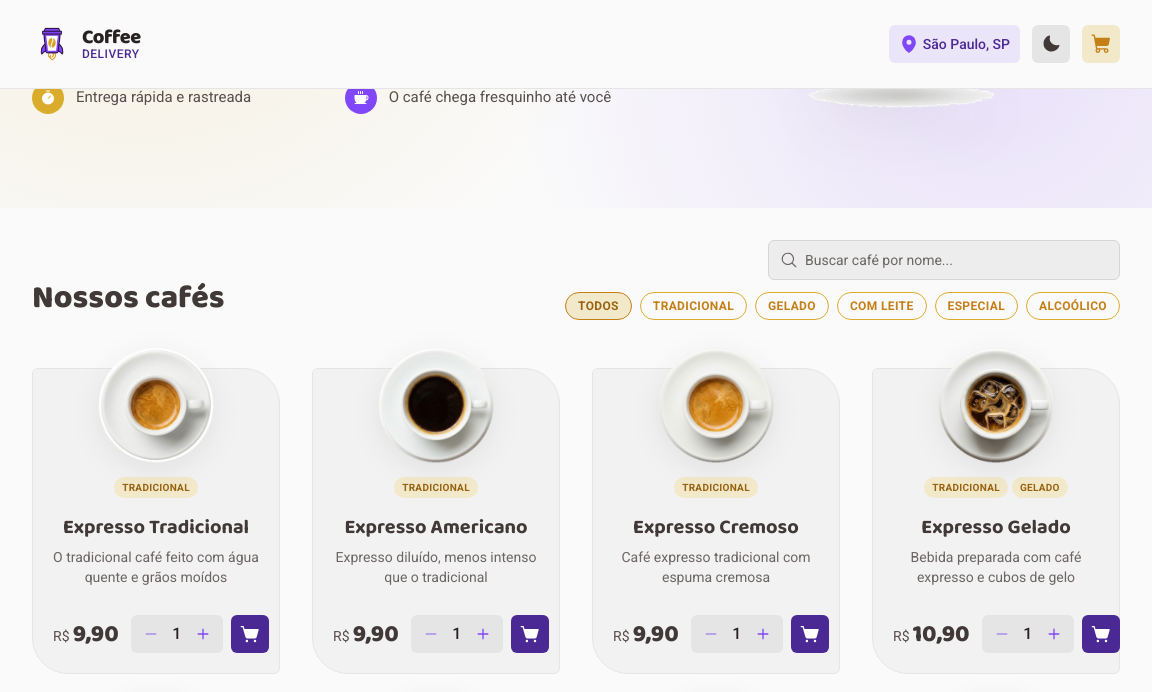
Test: Fluxos completos da SPA Coffee Delivery › exibe os 14 cafés, filtra por categoria/busca, soma unidades no Header e persiste o carrinho
The width and height of the screenshot is (1152, 692).
Later steps or results of the test are not shown.
(page scrolled)
Check: the heading "Expresso Tradicional" is shown, box top-left (63, 514), bottom-right (249, 540)
# Filtro por tag e busca
Step 1. Click the button "Alcoólico" → click(1073, 306), box top-left (1026, 292), bottom-right (1120, 320)
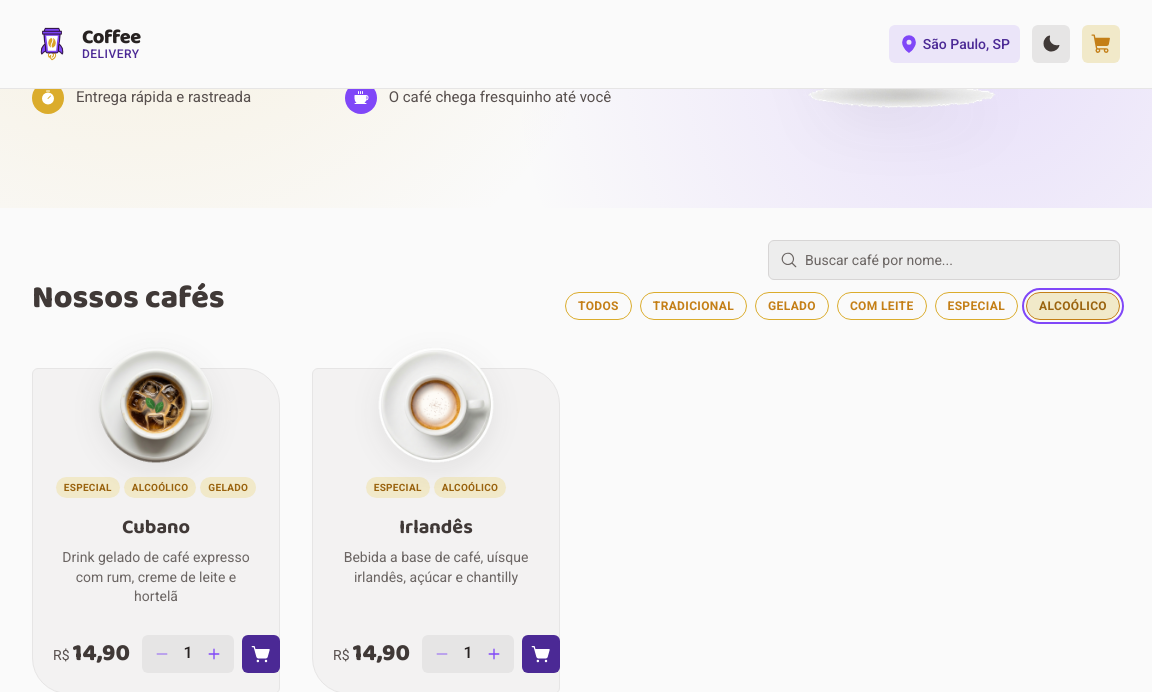
Check: the heading "Cubano" is shown, box top-left (122, 514), bottom-right (190, 540)
Check: the heading "Expresso Tradicional" is gone
Step 2. Click the button "Todos" → click(598, 306), box top-left (565, 292), bottom-right (632, 320)
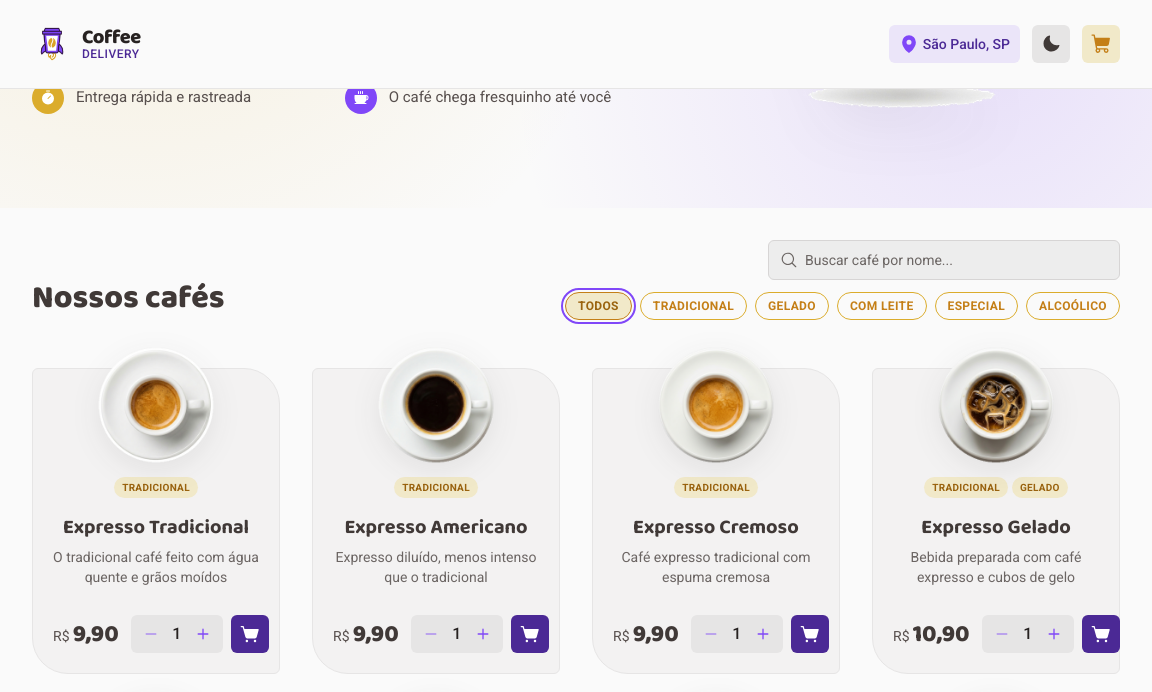
# RF-02 e RF-03: selecionar quantidade 2 e adicionar Expresso Tradicional + adicionar novamente 1 unidade
Step 3. Click the button named "Aumentar quantidade de Expresso Tradicional" → click(203, 634), box top-left (191, 622), bottom-right (215, 646)
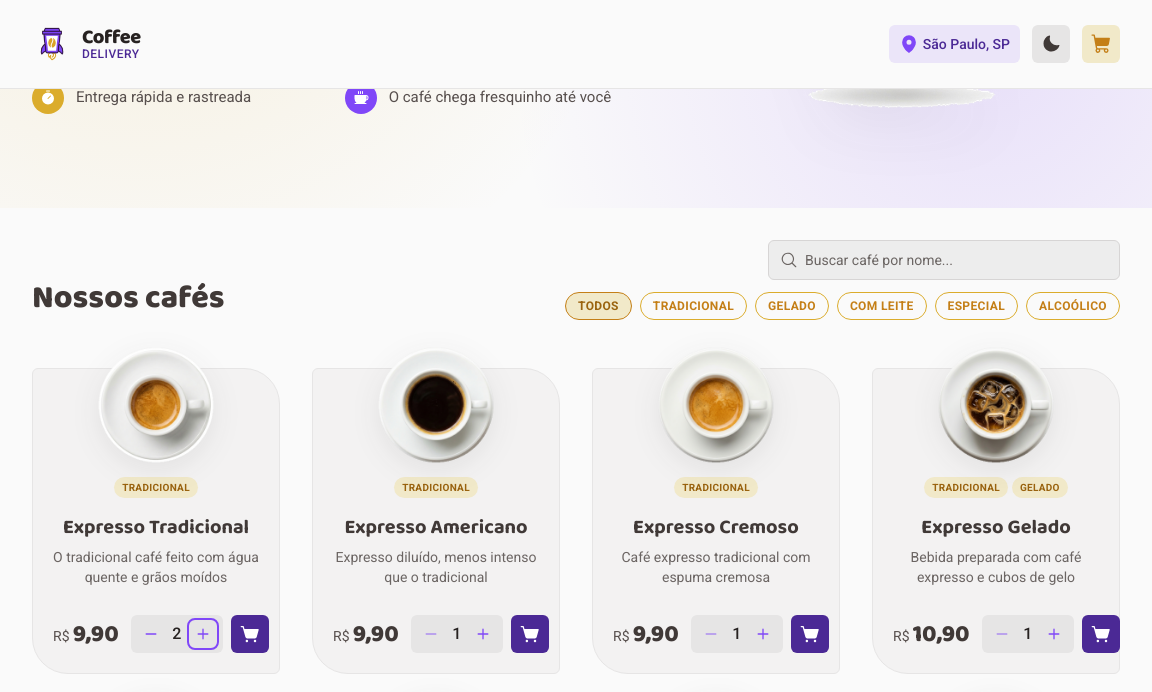
Step 4. Click the button named "Adicionar Expresso Tradicional ao carrinho" → click(250, 634), box top-left (231, 615), bottom-right (269, 653)
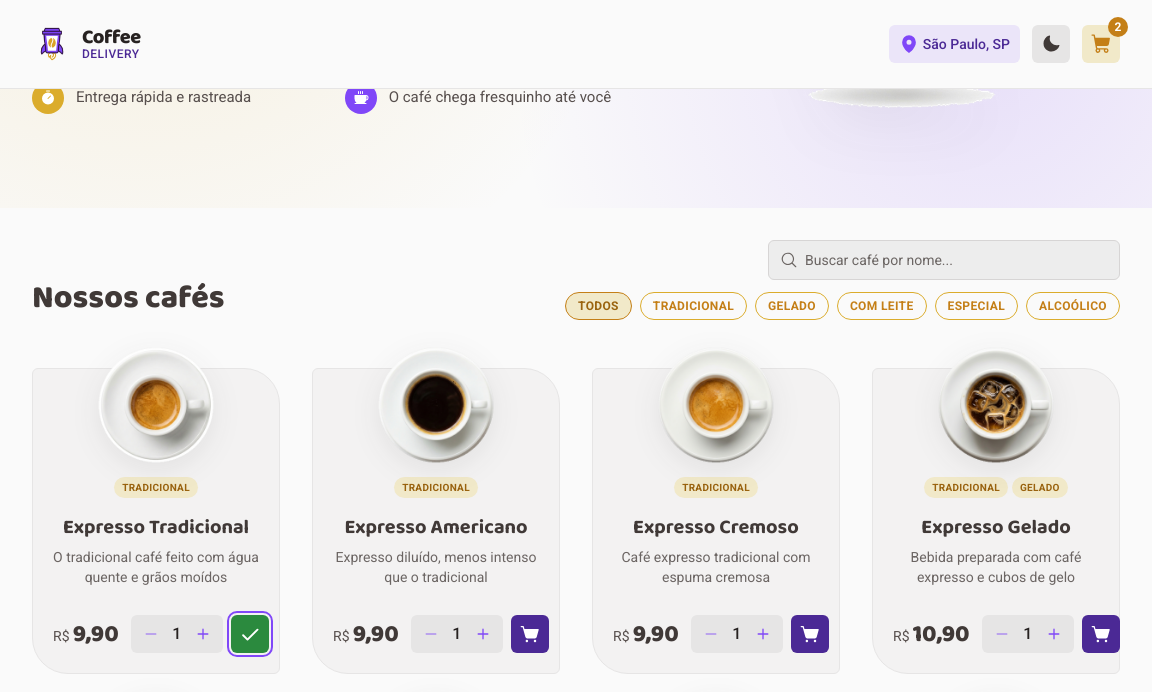
Step 5. Click the button named "Adicionar Expresso Tradicional ao carrinho" → click(250, 634), box top-left (231, 615), bottom-right (269, 653)
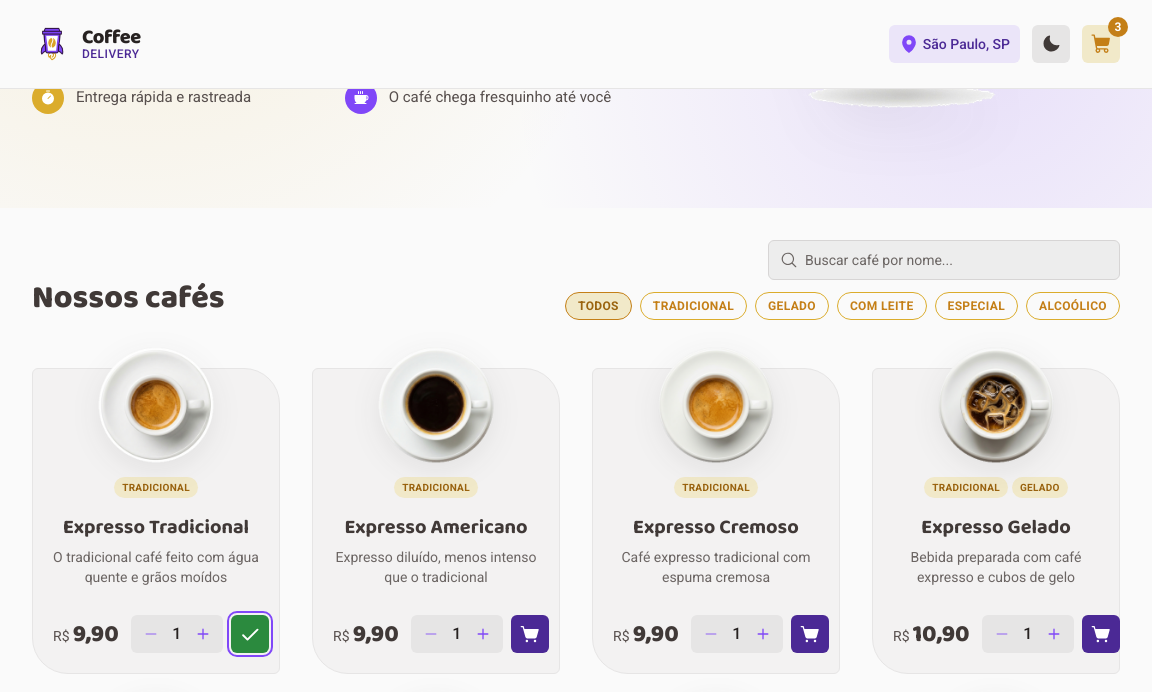
Check: the text with test id "cart-badge-count" reads "3", box top-left (1114, 20), bottom-right (1121, 34)
